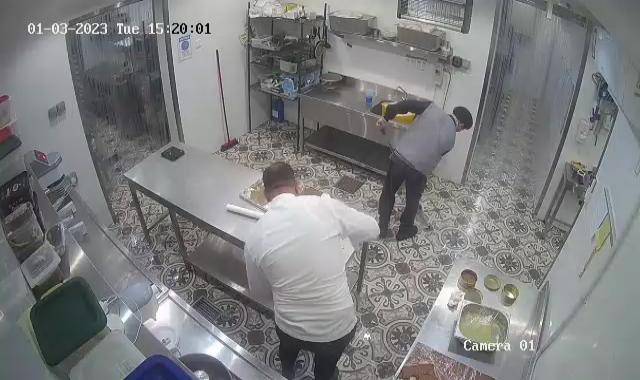no_hairnet: (258, 161, 305, 199), (454, 105, 472, 134)
